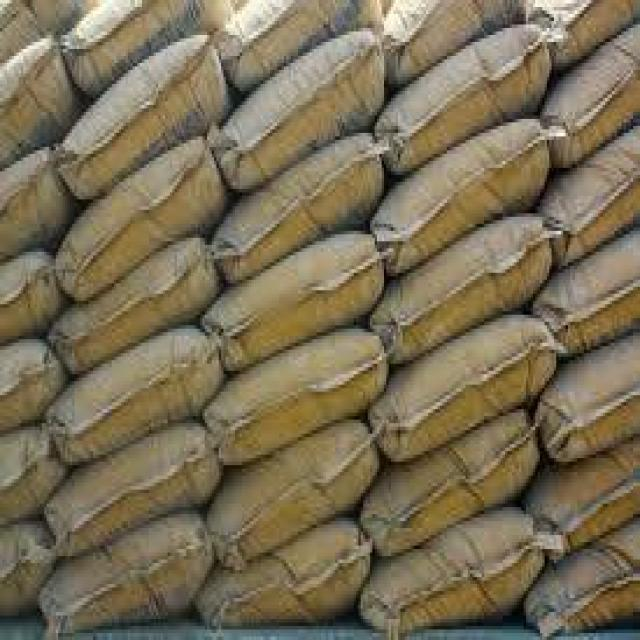gunny_bag: (57, 140, 224, 306), (382, 115, 551, 278), (208, 325, 393, 470), (62, 38, 228, 198), (377, 15, 549, 165), (209, 423, 382, 571), (378, 315, 555, 458), (217, 132, 387, 280), (383, 212, 552, 356), (224, 35, 386, 183), (370, 413, 535, 558), (212, 226, 382, 366), (47, 426, 216, 560), (51, 328, 215, 465), (51, 240, 213, 375), (375, 505, 540, 636), (42, 518, 208, 638), (201, 520, 369, 631), (225, 2, 375, 97), (539, 335, 637, 466), (550, 128, 639, 271), (532, 516, 636, 638), (542, 230, 638, 361), (546, 25, 637, 163), (536, 443, 640, 556), (4, 152, 61, 251), (2, 343, 60, 436), (0, 515, 51, 618), (2, 246, 57, 338)
